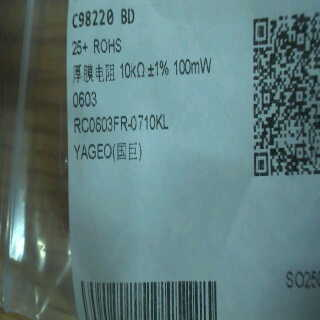10kR: (118, 58, 148, 83)
